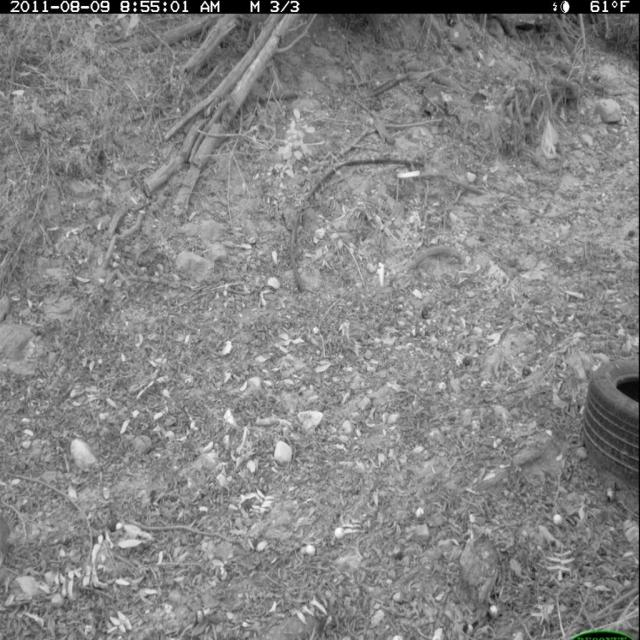rabbit: (1, 503, 27, 566)
